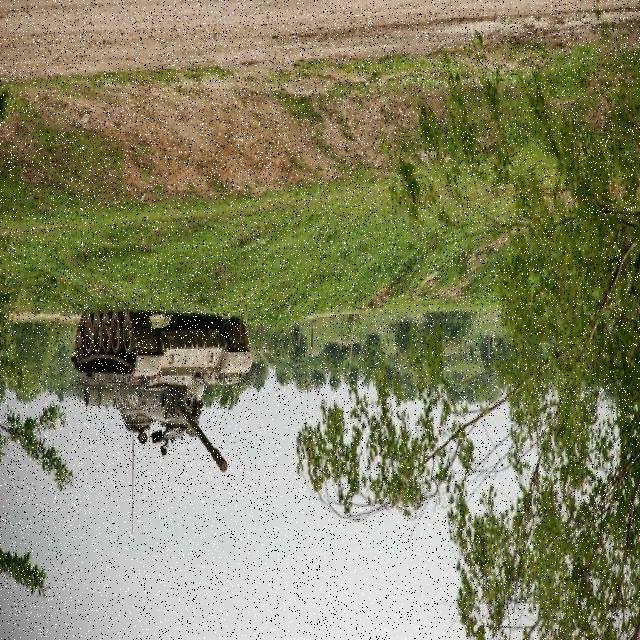MIL_MBT: (60, 287, 260, 491)
